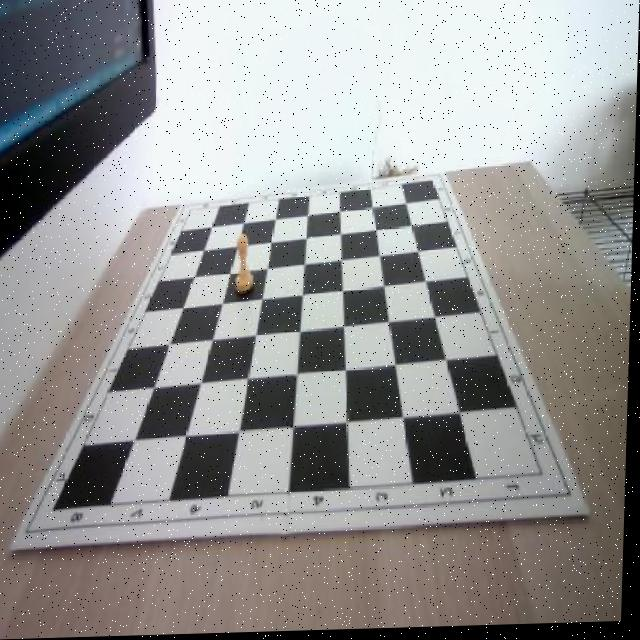white-knight: (236, 234, 257, 293)
